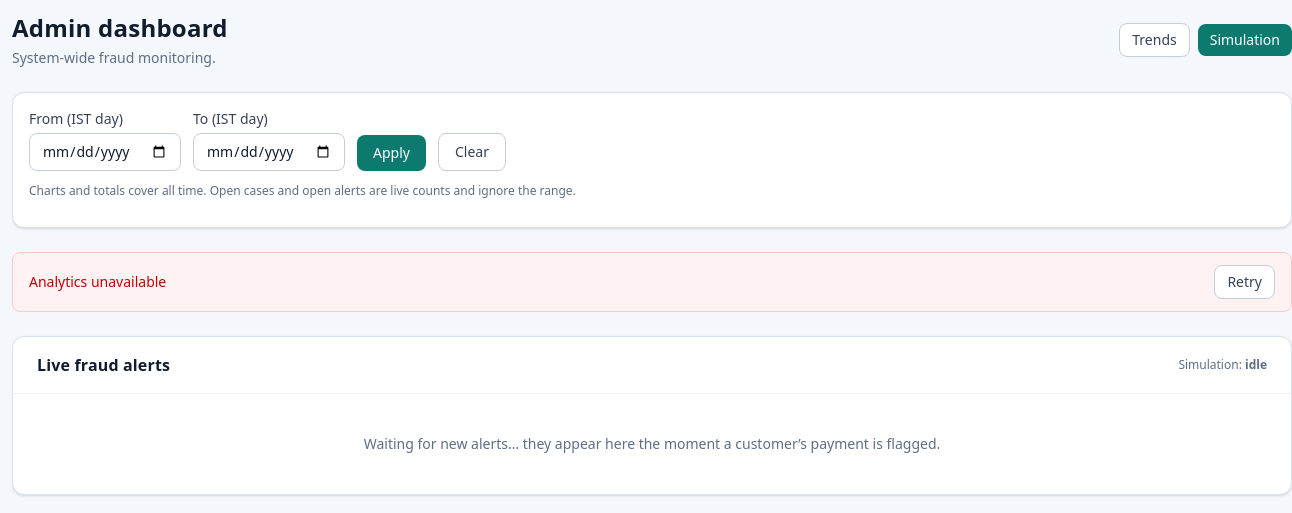
AdminDashboard › on a failed load shows the error with Retry and no zero KPIs
This screenshot has width=1292, height=513.
Check: the message shows "Analytics unavailable", box top-left (29, 272), bottom-right (166, 291)
Click the button "Retry" at (1245, 282), box top-left (1214, 265), bottom-right (1275, 299)
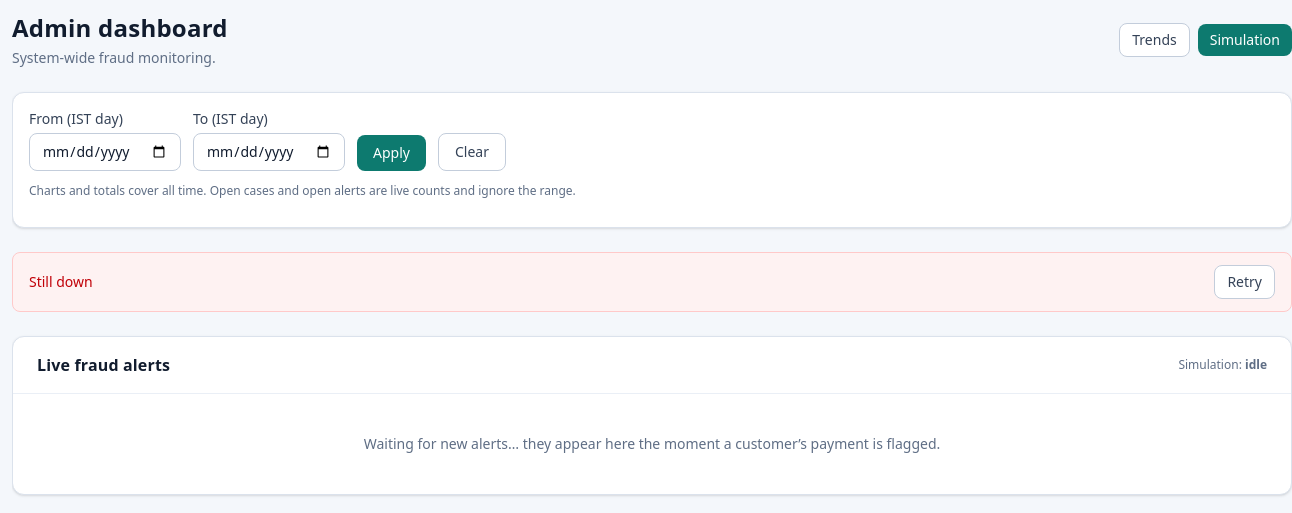
Check: the text "Still down" is shown, box top-left (29, 272), bottom-right (93, 292)
